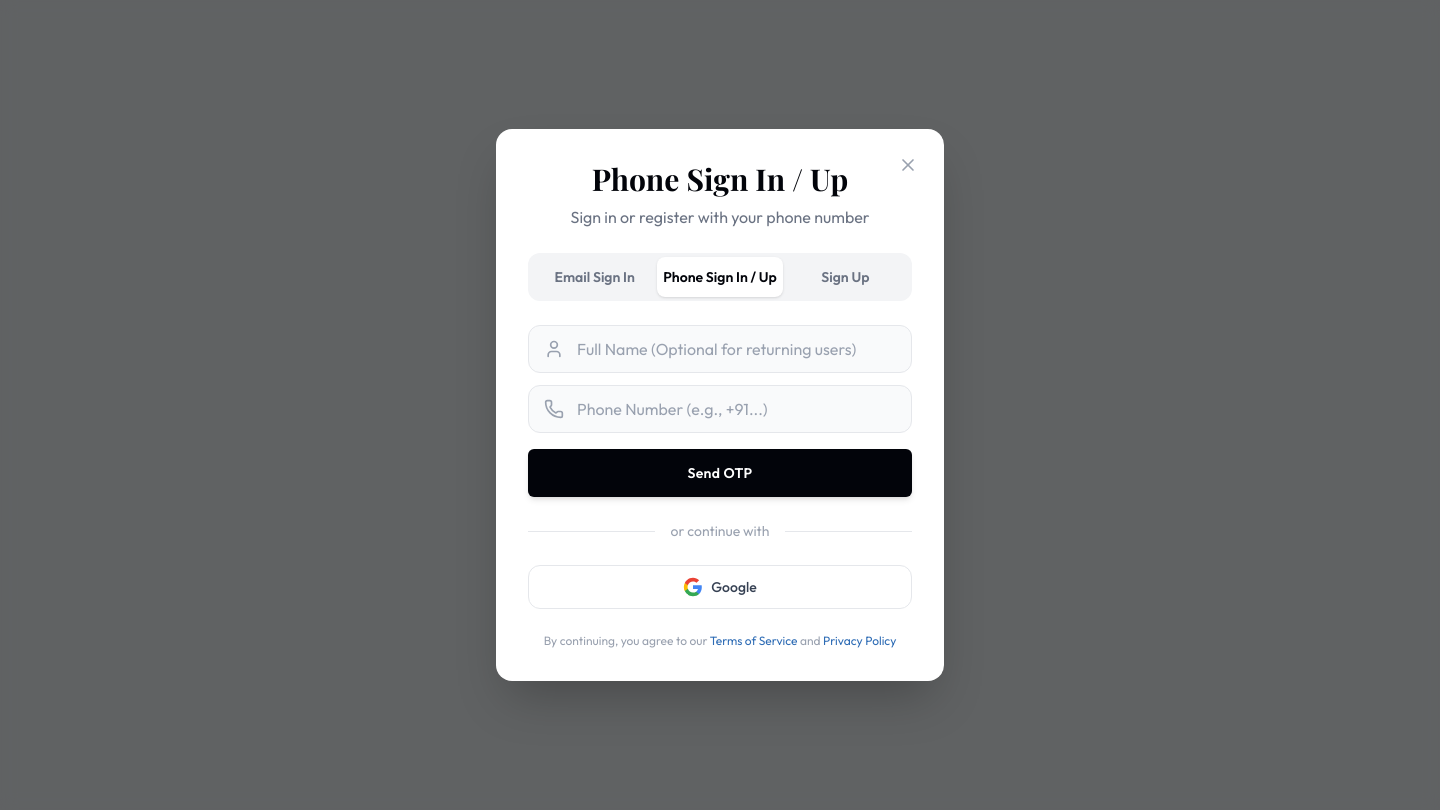
Test: AuthModal — Phone Sign In / Up & First-Time Name Onboarding › displays user-friendly error message when OTP verification fails
Type "+919876543210" into the field with placeholder "Phone Number (e.g., +91...)" at (720, 409), box [528, 385, 912, 433]
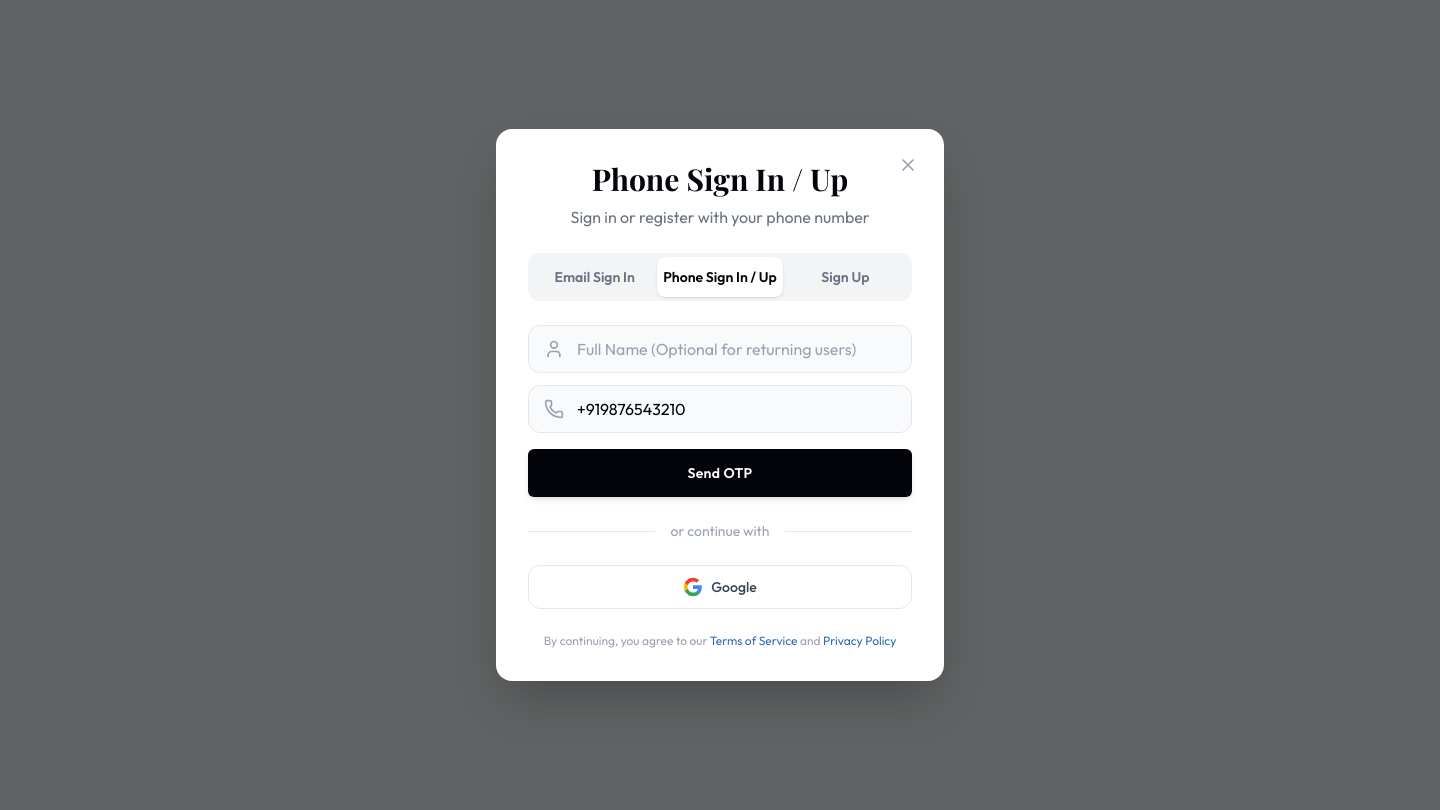
Click the button "Send OTP" at (720, 473), box [528, 449, 912, 497]
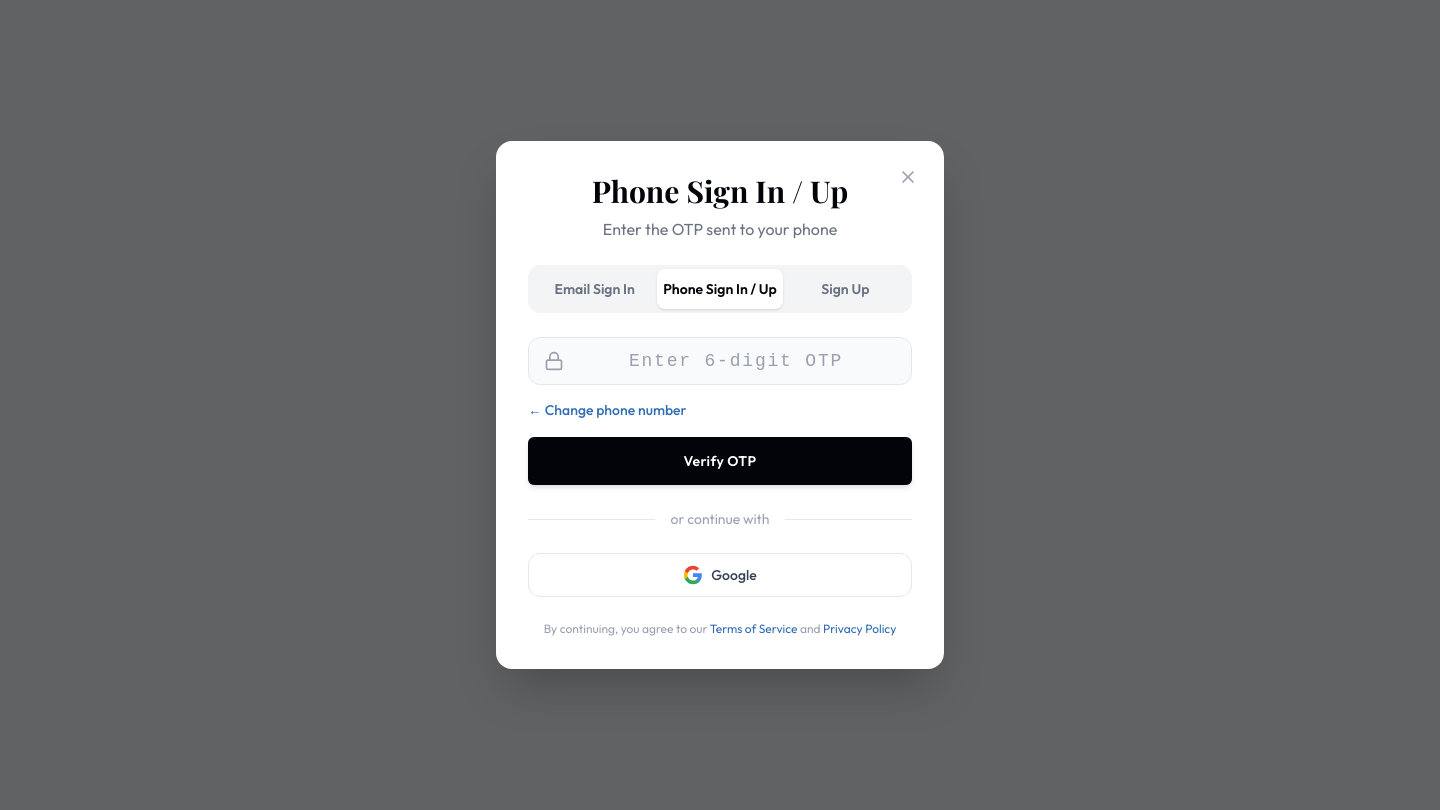
Result: the field with placeholder "Enter 6-digit OTP" is shown
Type "000000" into the field with placeholder "Enter 6-digit OTP" at (720, 361), box [528, 337, 912, 385]
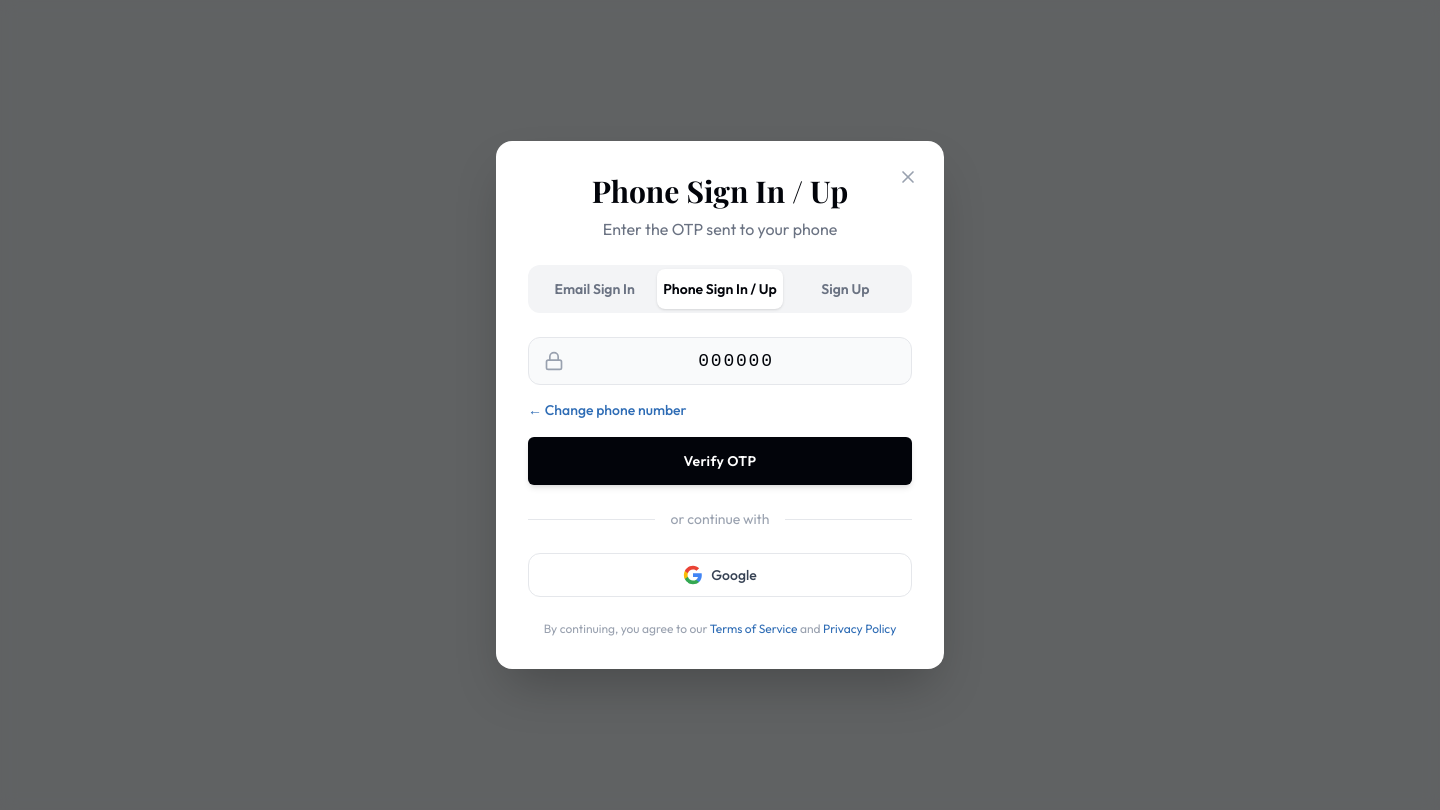
Click the button "Verify OTP" at (720, 461), box [528, 437, 912, 485]
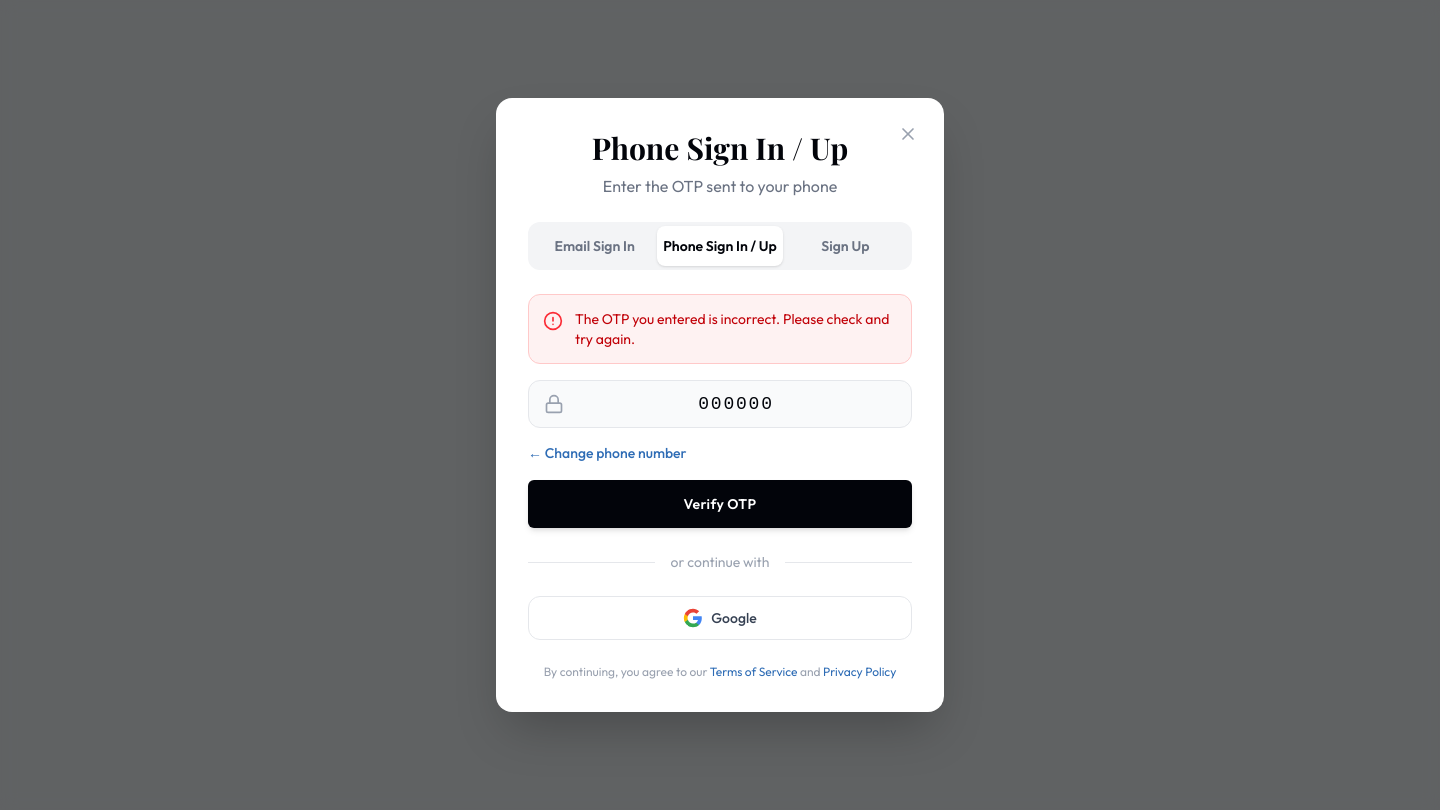
Result: the text "The OTP you entered is incorrect. Please check and try again." is shown at [575, 309, 897, 349]
